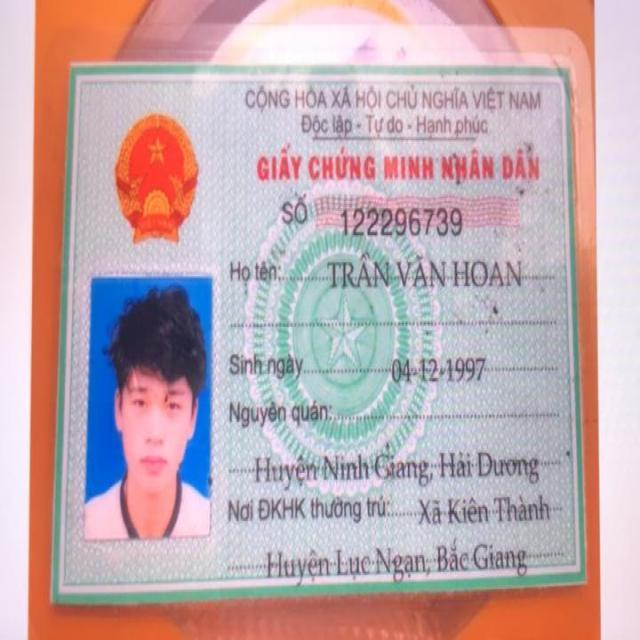bottom_left: (43, 592, 65, 612)
bottom_right: (572, 570, 593, 594)
image_person: (86, 274, 221, 543)
top_left: (87, 274, 109, 290)
top_right: (540, 64, 577, 108)
